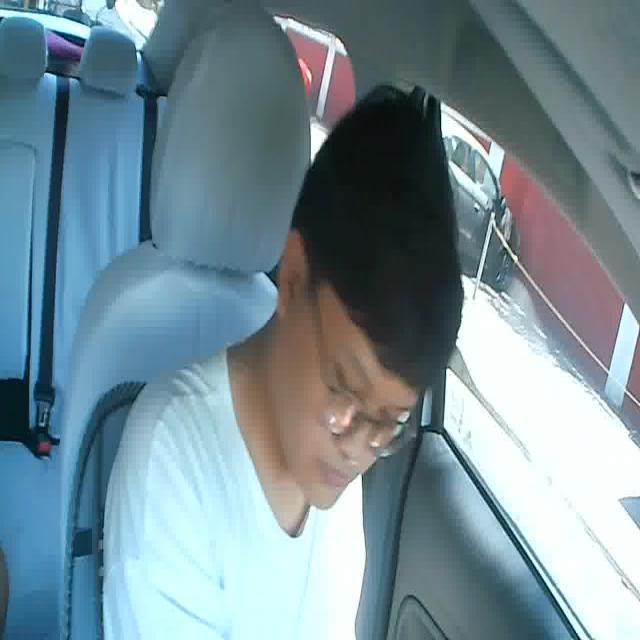Eye-Close: (326, 362, 363, 395), (371, 402, 407, 435)
Inattentive: (272, 88, 465, 510)
Normal: (311, 457, 353, 489)
